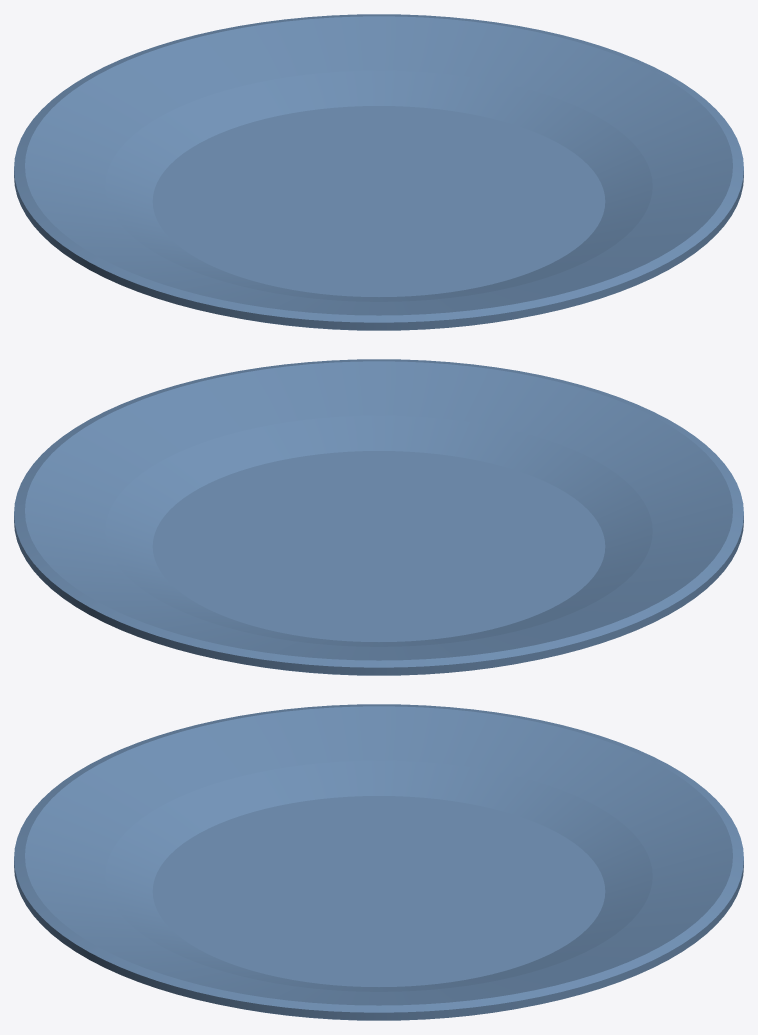
File: plato-26cm.glb
3 views of the same model, one above another, from view 1: azimuth 30°, elevation 25°; view 2: azimuth 150°, elevation 25°; view 3: azimuth 270°, elevation 25° (orthographic).
Parts seen in each view (by area): view 1: plato; view 2: plato; view 3: plato.
Boxes of the visible parts, x1,y1,x2,y2 form: plato: (14, 14, 743, 330); plato: (14, 359, 743, 675); plato: (14, 704, 743, 1020).
Size of the model in its own units: 0.26 by 0.021 by 0.26.
